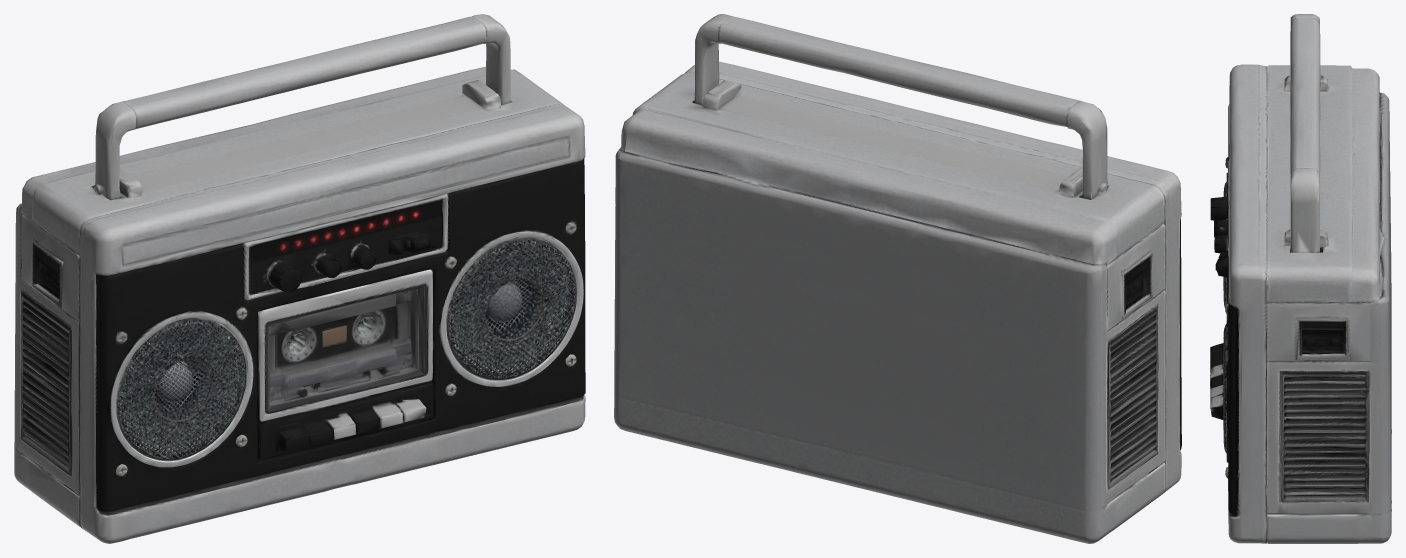
Rendered from boombox.glb.
The picture shows the model from 3 angles, left to right: view 1: azimuth 30°, elevation 25°; view 2: azimuth 150°, elevation 25°; view 3: azimuth 270°, elevation 25°; orthographic projection. The views are drawn at different scales.
Visible parts, largest first — view 1: tripo_node_8a124915-e138-4778-b078-13659a51f3ff; view 2: tripo_node_8a124915-e138-4778-b078-13659a51f3ff; view 3: tripo_node_8a124915-e138-4778-b078-13659a51f3ff.
Boxes of the visible parts, x1,y1,x2,y2 form: tripo_node_8a124915-e138-4778-b078-13659a51f3ff: (14,14,585,543); tripo_node_8a124915-e138-4778-b078-13659a51f3ff: (614,14,1181,543); tripo_node_8a124915-e138-4778-b078-13659a51f3ff: (1210,14,1391,543).
Size of the model in its own units: 0.9785 by 0.7571 by 0.3531.
1 material, 1 textured.
